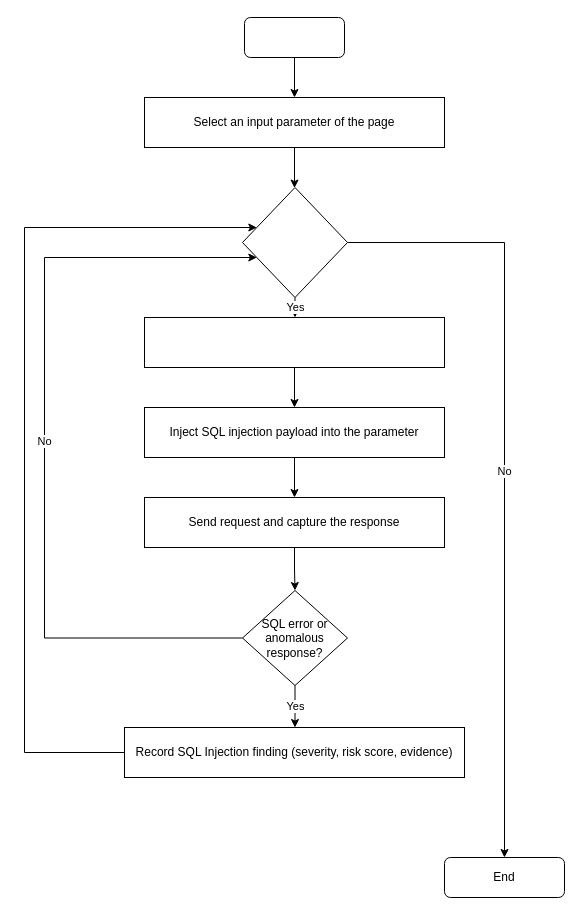
Some shapes in this 582 by 915 pixel diagram are drawn without their labels. Each missing label, with the centre of its shape:
"Send baseline request and record normal response" belongs at pixel 294 342.
"Start" belongs at pixel 294 37.
"Unprocessed parameter?" belongs at pixel 295 242.
